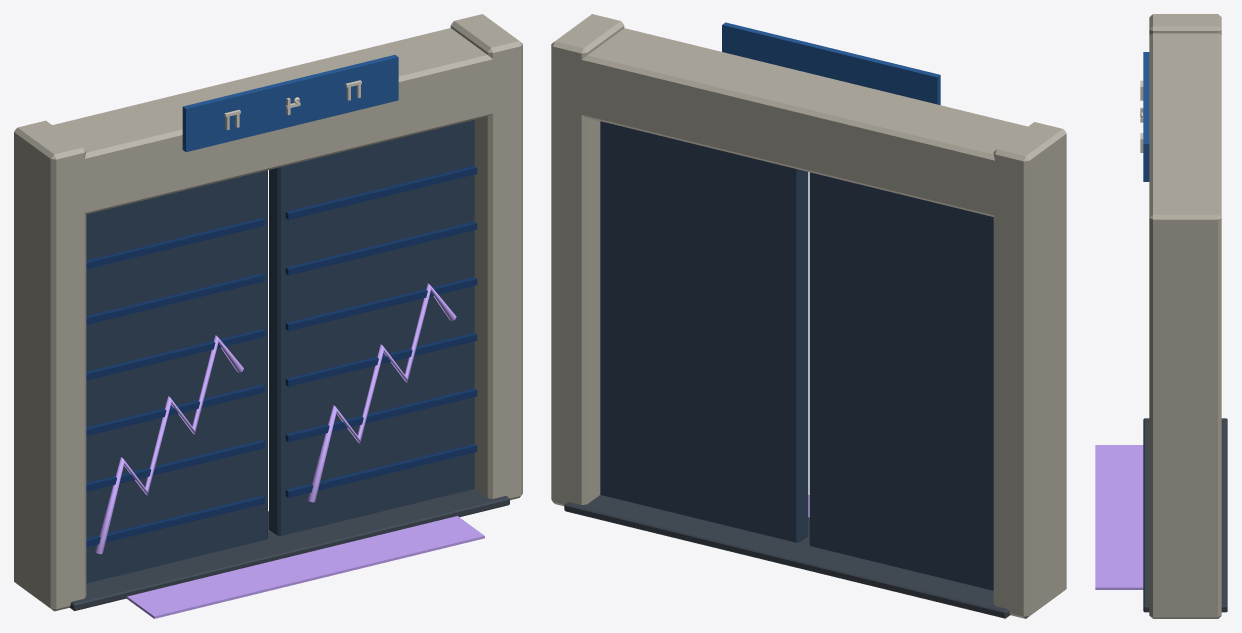
The model's file is boss_gate.fbx.
3 renders of one model, left to right at view 1: azimuth 30°, elevation 25°; view 2: azimuth 150°, elevation 25°; view 3: azimuth 270°, elevation 25°, orthographic. The views are drawn at different scales.
Visible parts, largest first — view 1: boss_gate; view 2: boss_gate; view 3: boss_gate.
Part boxes in pixels (left/top/right/bottom): boss_gate: left=14, top=14, right=522, bottom=618; boss_gate: left=551, top=14, right=1066, bottom=618; boss_gate: left=1095, top=14, right=1227, bottom=618.
Size of the model in its own units: 4 by 3.85 by 1.1.
